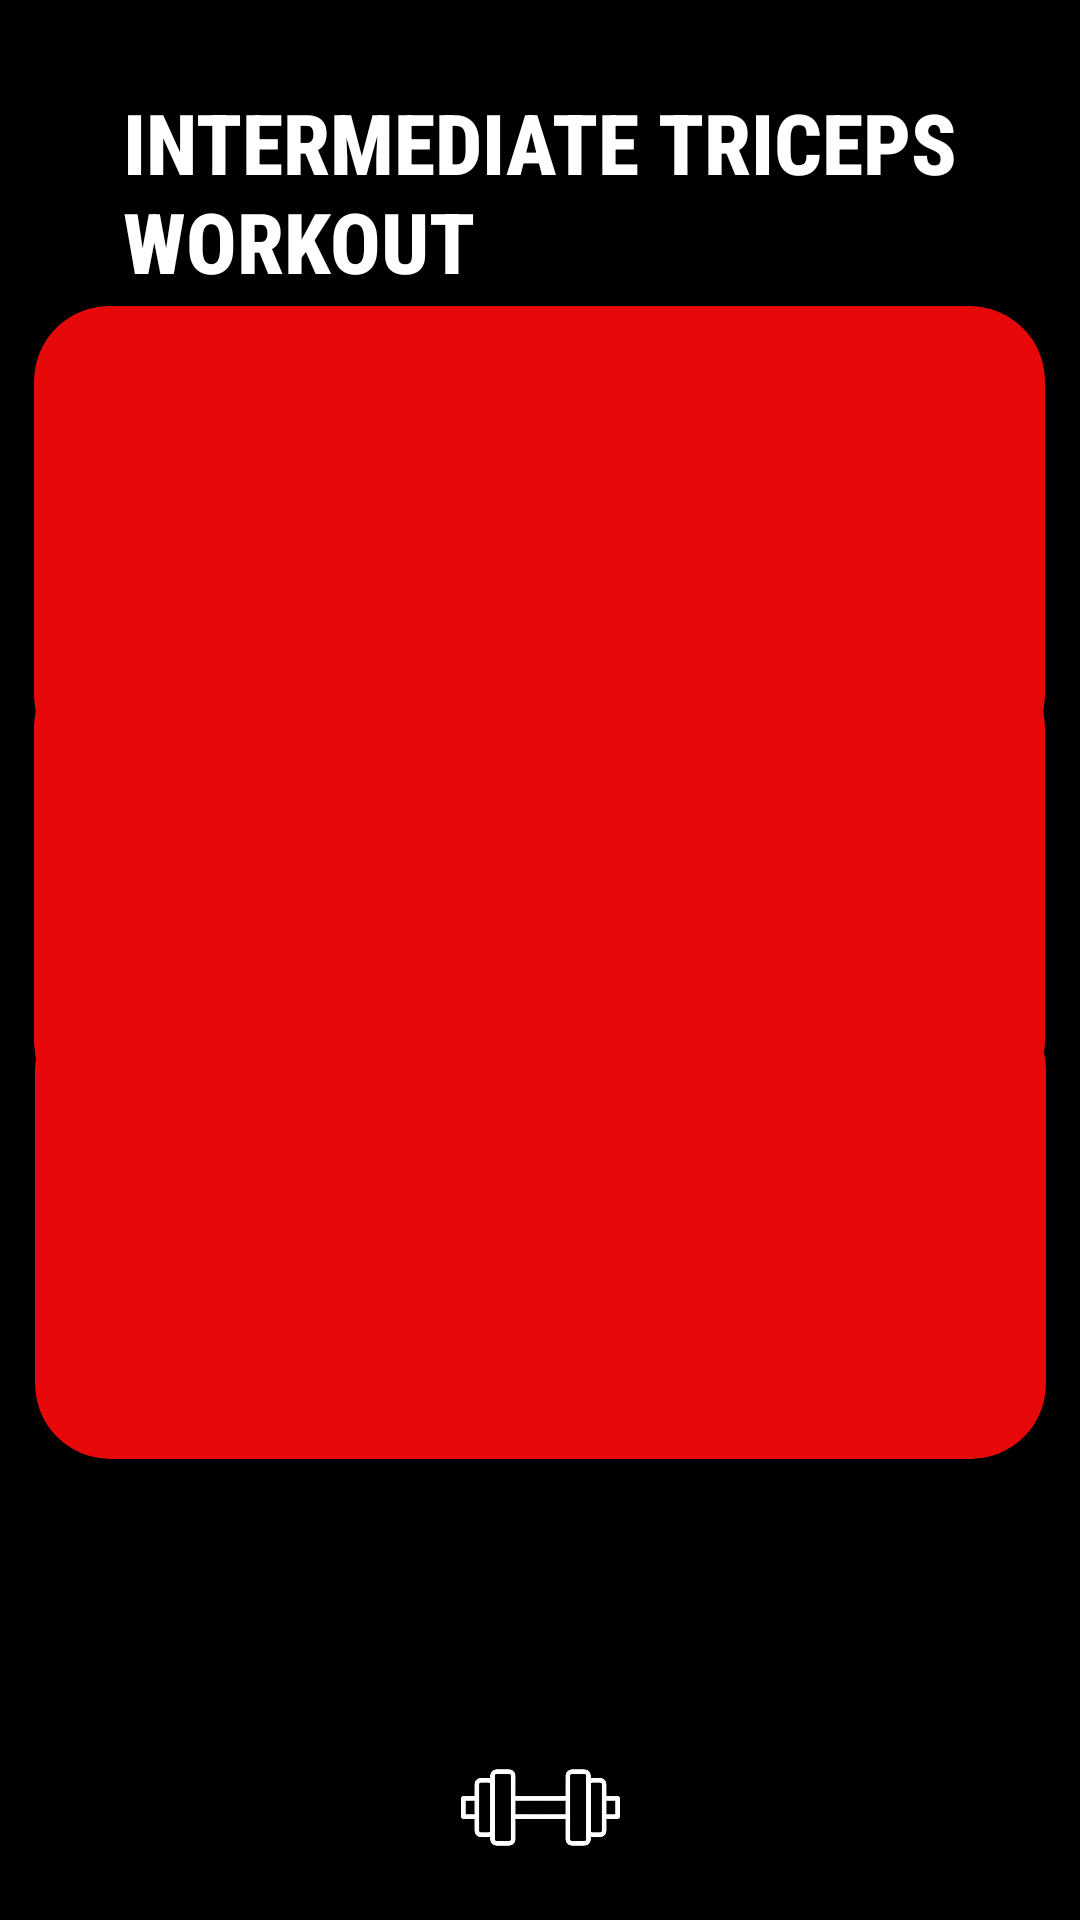

Point at icon controls on the screen. Image size 1080 × 1920, points as point (x, y).
imgdumbell: point (540, 1807)
